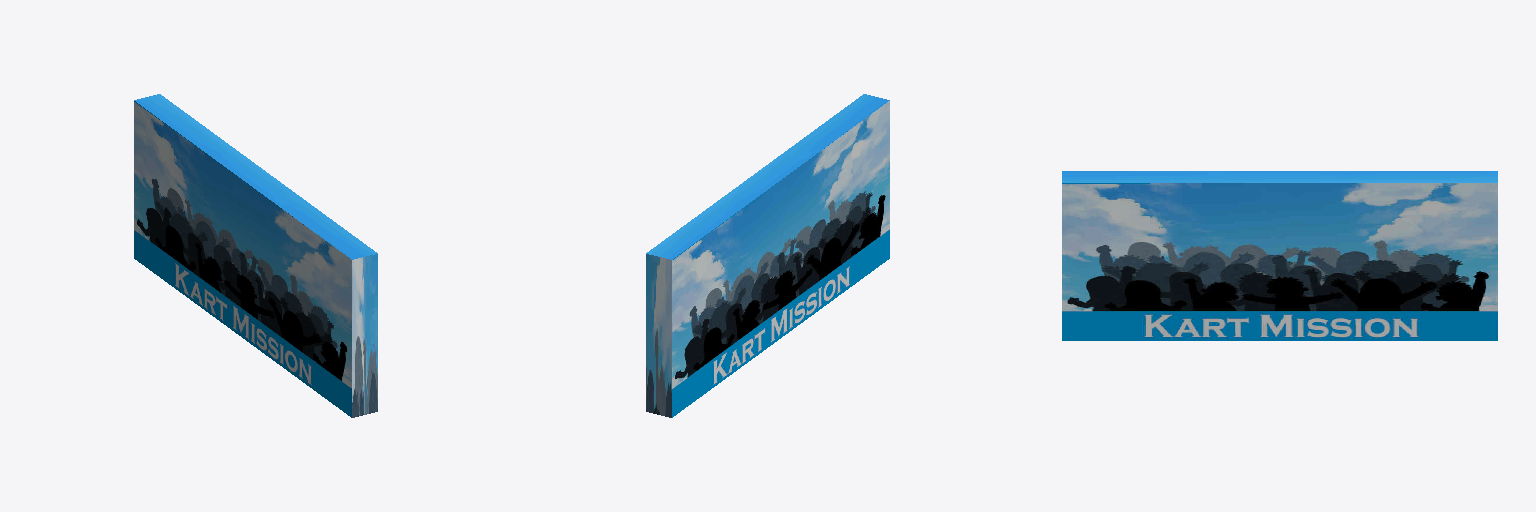
3 renders of one model, left to right at view 1: azimuth 30°, elevation 25°; view 2: azimuth 150°, elevation 25°; view 3: azimuth 270°, elevation 25°, orthographic.
Visible parts, largest first — view 1: 立方体; view 2: 立方体; view 3: 立方体.
Part boxes in pixels (x1,y1,x2,y2): 立方体: (134, 94, 377, 417); 立方体: (646, 94, 889, 417); 立方体: (1062, 171, 1497, 340).
Size of the model in its own units: 5.82 by 33.67 by 84.22.
Materials: 1 (1 with a texture image).